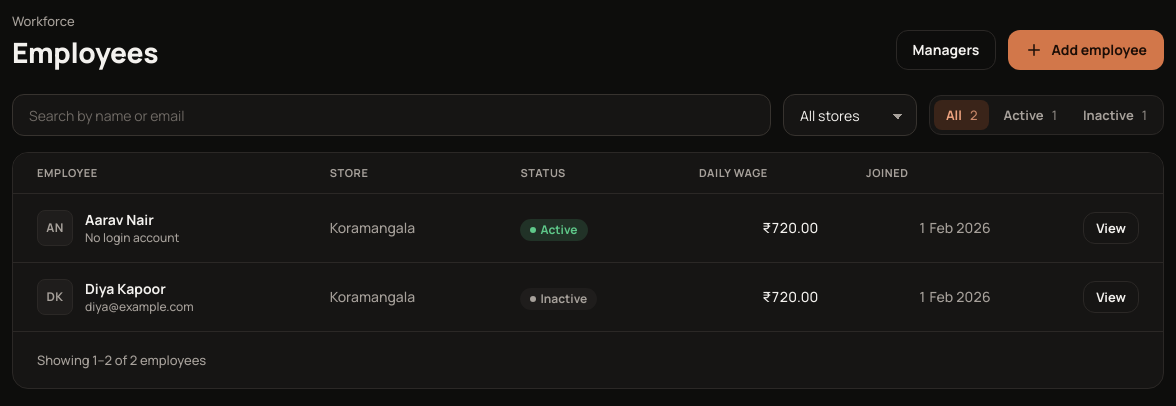
EmployeesPage › filters client-side by status
Expected: the text "Aarav Nair" is shown, [85,210,154,229]
Click the tab "Inactive 1" at (1115, 115), box [1071,100,1159,130]
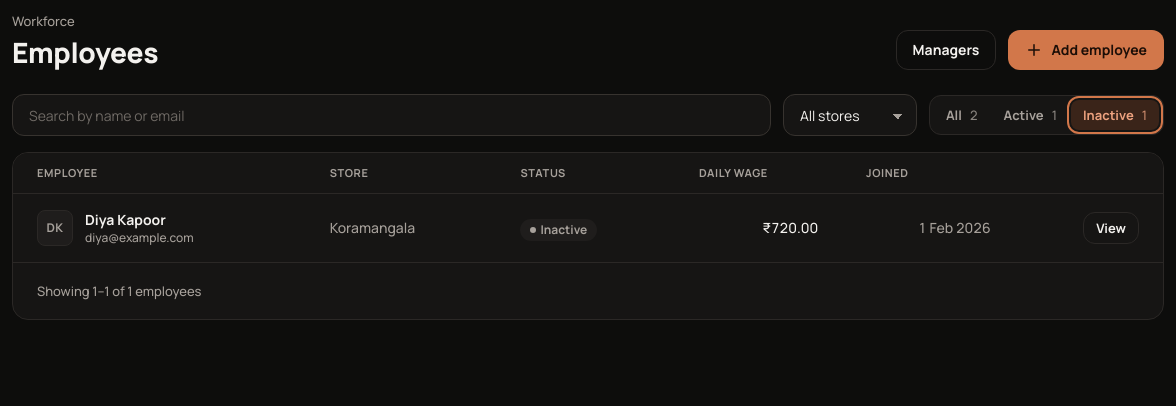
Expected: the text "Diya Kapoor" is shown, [85,210,166,229]
Expected: the text "Aarav Nair" is gone
